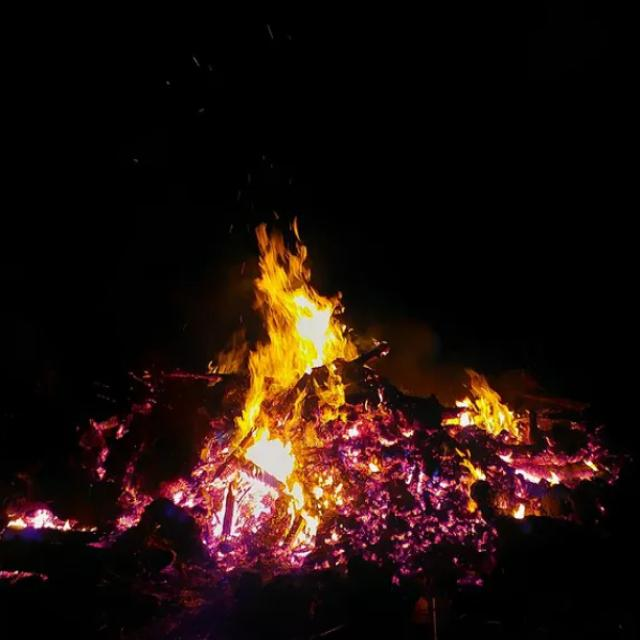fire: (342, 375, 618, 585), (207, 217, 361, 433), (164, 434, 344, 584), (0, 418, 152, 546), (442, 368, 529, 446), (132, 368, 204, 418)
